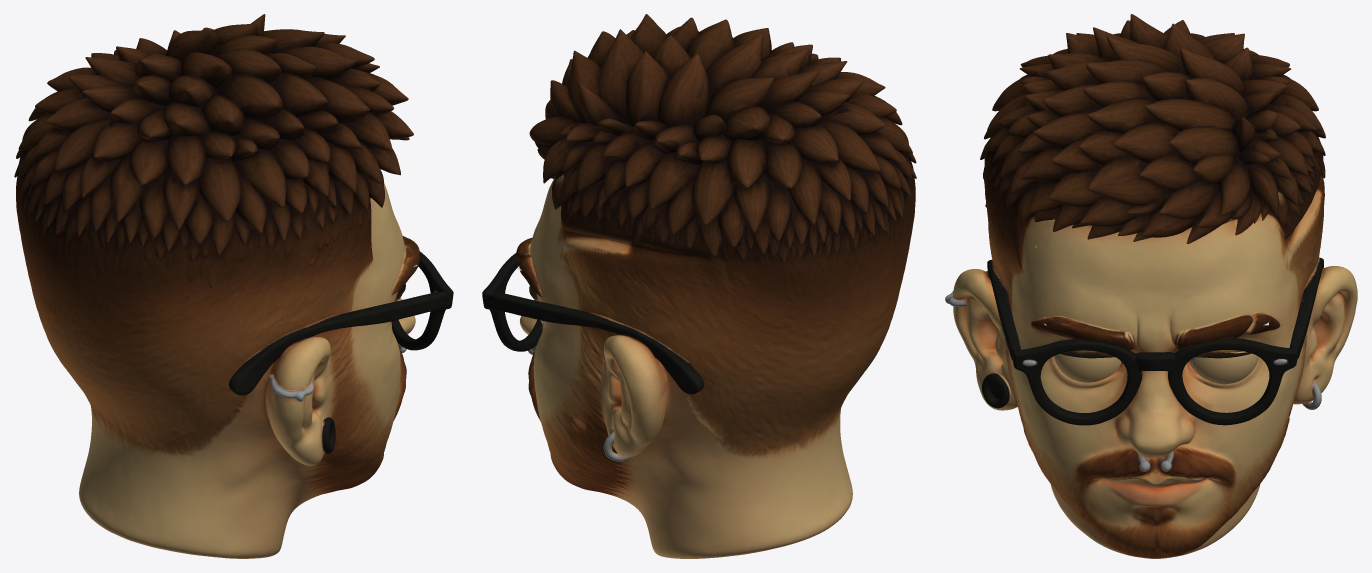
Rendered from personagem.glb.
The picture shows the model from 3 angles, left to right: view 1: azimuth 30°, elevation 25°; view 2: azimuth 150°, elevation 25°; view 3: azimuth 270°, elevation 25°; orthographic projection. The views are drawn at different scales.
Visible parts, largest first — view 1: Cabeça; view 2: Cabeça; view 3: Cabeça, Labio Inferior, Palpebra D inferior, Palpebra E inferior.001, Labio Superior, Palpebra D superior, Palpebra E superior.
Boxes of the visible parts, <box> form: Cabeça: <box>14,14,453,558</box>; Cabeça: <box>482,14,916,558</box>; Cabeça: <box>945,14,1357,558</box>; Labio Inferior: <box>1097,478,1213,507</box>; Palpebra D inferior: <box>1189,357,1258,384</box>; Palpebra E inferior.001: <box>1054,357,1121,382</box>; Labio Superior: <box>1097,478,1211,488</box>; Palpebra D superior: <box>1190,351,1258,367</box>; Palpebra E superior: <box>1054,353,1119,366</box>.
Bounding box in the file's own units: 0.7611 × 1 × 0.7607.
4 materials, 2 textured.
